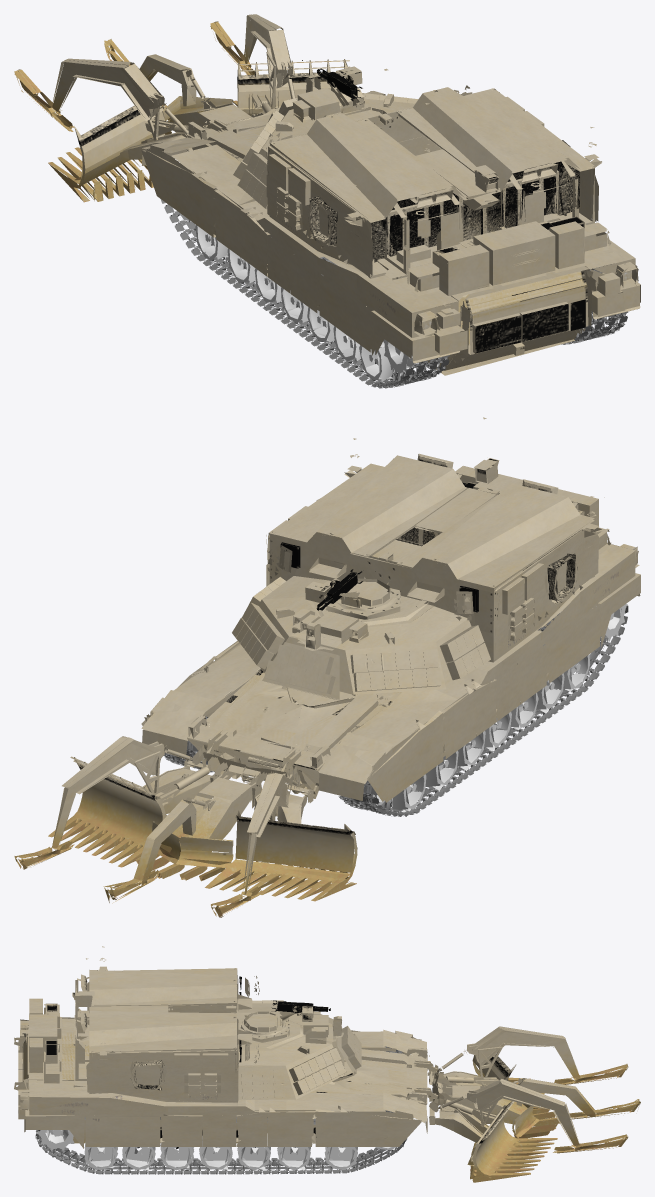
The model's file is m1150_abv.glb.
3 views of the same model, one above another, from view 1: azimuth 30°, elevation 25°; view 2: azimuth 150°, elevation 25°; view 3: azimuth 270°, elevation 25° (orthographic). The views are drawn at different scales.
Parts seen in each view (by area): view 1: Origin_1, Origin_1.001, Origin_1_SketchFab.001_0.001, Origin_Tr, abrams_1_004.001, abrams_1_004.001_Tracks.001_0.001, abrams_1_004.001_Tracks.001_0.002; view 2: Origin_1.001, Origin_1, Origin_1_SketchFab.001_0.001, Origin_Tr, abrams_1_004.001, abrams_1_004.001_Tracks.001_0.001; view 3: Origin_1, Origin_1.001, Origin_1_SketchFab.001_0.001, Origin_Tr, abrams_1_004.001_Tracks.001_0.004, abrams_1_004.001_Tracks.001_0.002, abrams_1_004.001_Tracks.001_0.003, abrams_1_004.001_Tracks.001_0.001.
Boxes of the visible parts, x1,y1,x2,y2 form: Origin_1: (14, 14, 640, 375); Origin_1.001: (233, 60, 601, 280); Origin_1_SketchFab.001_0.001: (18, 15, 640, 363); Origin_Tr: (195, 225, 623, 381); abrams_1_004.001: (160, 199, 356, 363); abrams_1_004.001_Tracks.001_0.001: (323, 348, 449, 388); abrams_1_004.001_Tracks.001_0.002: (561, 266, 628, 344); Origin_1.001: (232, 417, 601, 700); Origin_1: (14, 466, 640, 917); Origin_1_SketchFab.001_0.001: (14, 497, 640, 917); Origin_Tr: (170, 604, 627, 812); abrams_1_004.001: (338, 707, 558, 816); abrams_1_004.001_Tracks.001_0.001: (530, 605, 628, 723); Origin_1: (14, 998, 640, 1177); Origin_1.001: (72, 946, 361, 1105); Origin_1_SketchFab.001_0.001: (24, 1003, 639, 1182); Origin_Tr: (36, 1051, 396, 1170); abrams_1_004.001_Tracks.001_0.004: (242, 1046, 407, 1174); abrams_1_004.001_Tracks.001_0.002: (35, 1117, 315, 1174); abrams_1_004.001_Tracks.001_0.003: (160, 1110, 394, 1174); abrams_1_004.001_Tracks.001_0.001: (110, 1158, 173, 1174).
Size of the model in its own units: 34018 by 28492 by 90922.
4 materials, 2 textured.
